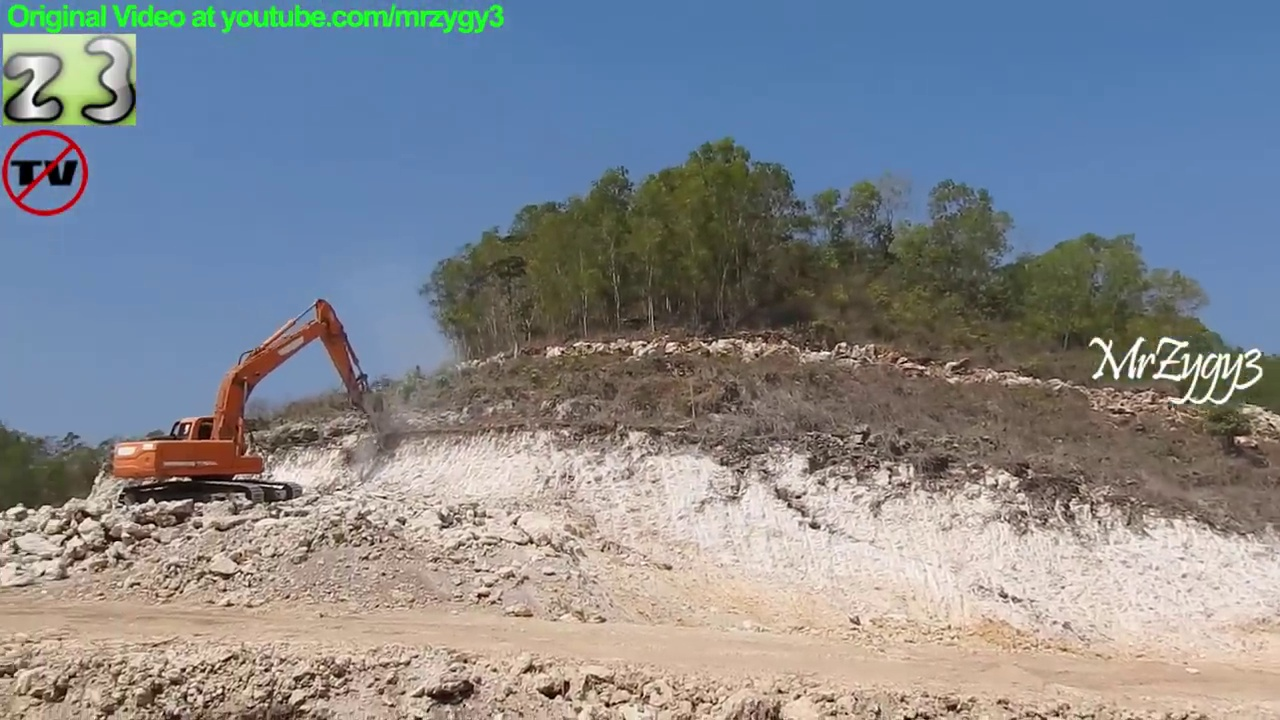excavator breaker: (103, 296, 392, 512)
